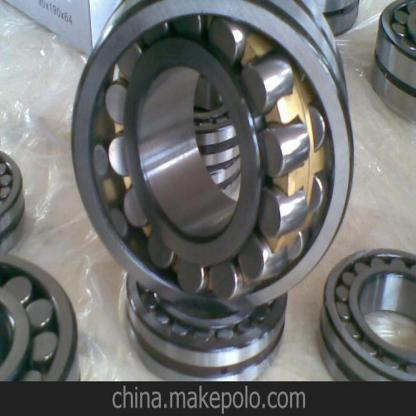FOD: (121, 263, 288, 383), (320, 234, 416, 384)
